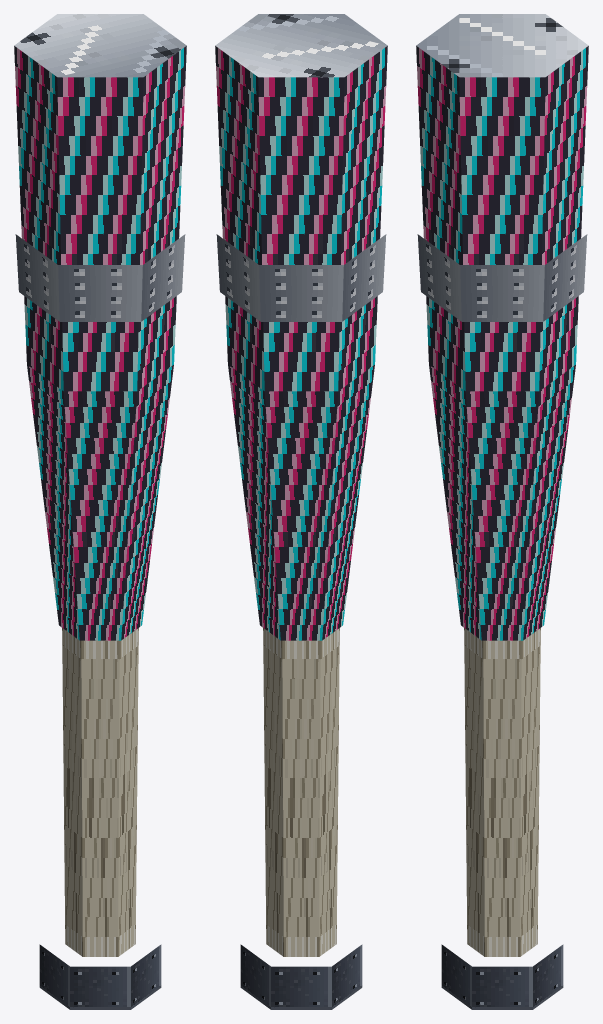
File: neon_bat.glb
3 views of the same model, side by side, from view 1: azimuth 30°, elevation 25°; view 2: azimuth 150°, elevation 25°; view 3: azimuth 270°, elevation 25° (orthographic).
Visible parts, largest first — view 1: Barrel, Body; view 2: Barrel, Body; view 3: Barrel, Body.
Boxes of the visible parts, left/top/right/bottom form: Barrel: left=14, top=14, right=186, bottom=640; Body: left=15, top=234, right=185, bottom=1009; Barrel: left=215, top=14, right=387, bottom=640; Body: left=216, top=234, right=386, bottom=1009; Barrel: left=416, top=14, right=588, bottom=640; Body: left=417, top=234, right=587, bottom=1009.
Bounding box in the file's own units: 0.0935 × 0.65 × 0.108.
1 material, 1 textured.
